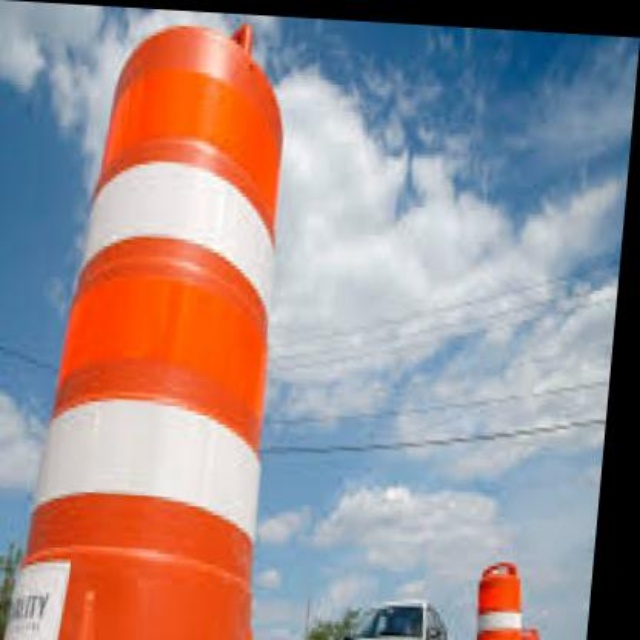obstacle: (35, 33, 310, 640)
